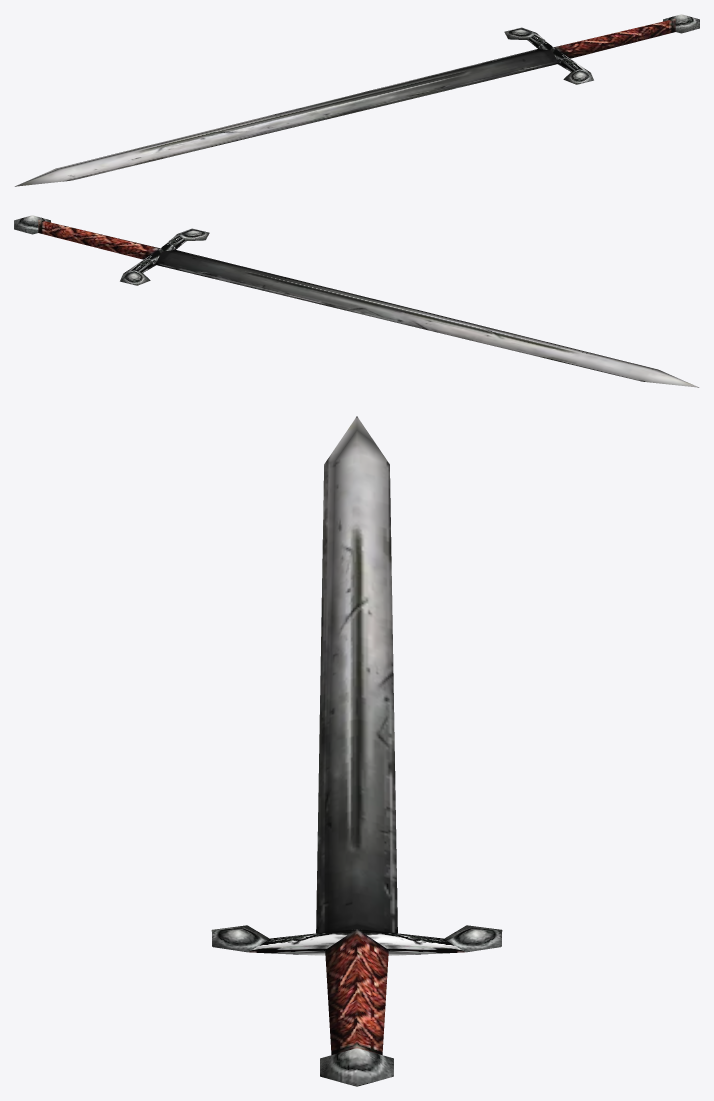
Rendered from ITMW_045_1H_SWORD_SMITH_02.glb.
The picture shows the model from 3 angles, top to bottom: view 1: azimuth 30°, elevation 25°; view 2: azimuth 150°, elevation 25°; view 3: azimuth 270°, elevation 25°; orthographic projection. The views are drawn at different scales.
Parts seen in each view (by area): view 1: Mesh; view 2: Mesh; view 3: Mesh.
Part boxes in pixels (x1=…): Mesh: x1=15, y1=14, x2=699, y2=186; Mesh: x1=14, y1=215, x2=698, y2=387; Mesh: x1=211, y1=416, x2=502, y2=1086.
Bounding box in the file's own units: 1.11 × 0.03 × 0.2035.
2 materials, 2 textured.
